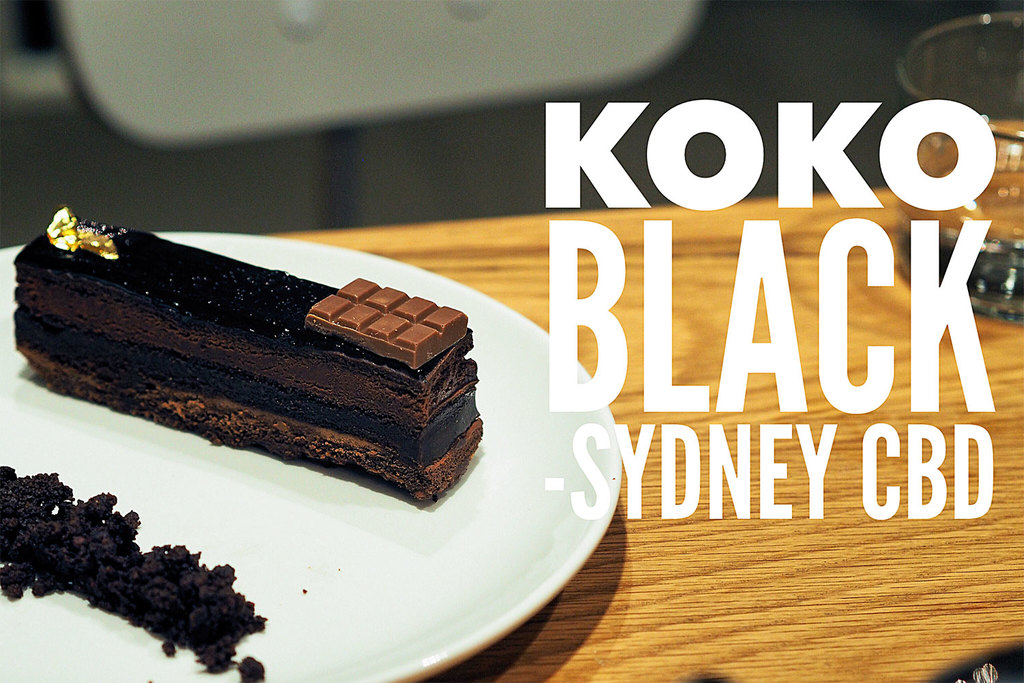cake: (15, 207, 481, 508)
